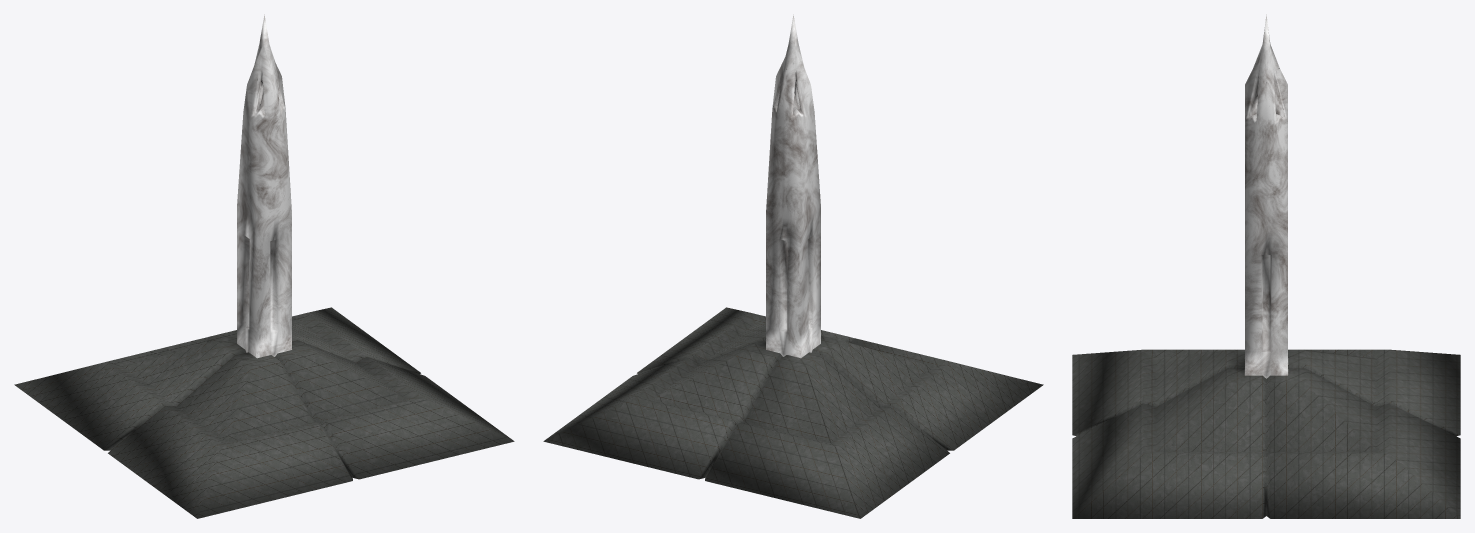
File: oblisk.glb
The picture shows the model from 3 angles, left to right: view 1: azimuth 30°, elevation 25°; view 2: azimuth 150°, elevation 25°; view 3: azimuth 270°, elevation 25°; orthographic projection. The views are drawn at different scales.
Parts seen in each view (by area): view 1: oblisk_txt; view 2: oblisk_txt; view 3: oblisk_txt.
Boxes of the visible parts, left/top/right/bottom form: oblisk_txt: left=14, top=14, right=514, bottom=518; oblisk_txt: left=543, top=14, right=1043, bottom=518; oblisk_txt: left=1072, top=14, right=1460, bottom=518.
Size of the model in its own units: 10 by 12.02 by 10.
1 material, 1 textured.
